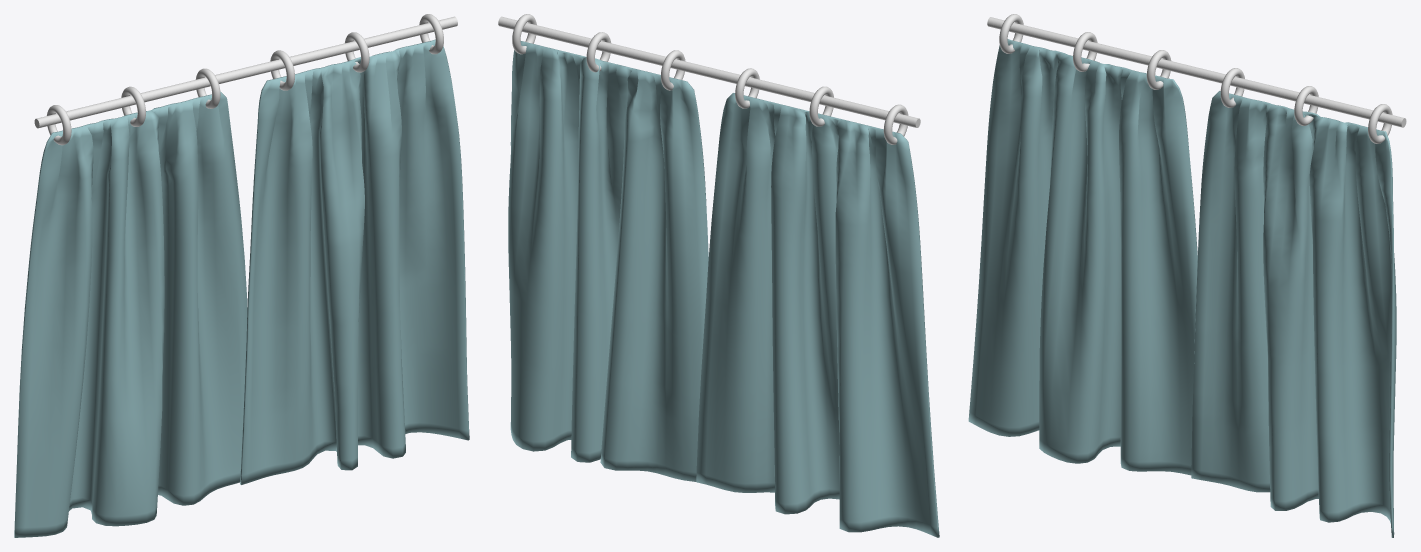
File: cortina enfermaria.fbx
3 renders of one model, left to right at view 1: azimuth 30°, elevation 25°; view 2: azimuth 150°, elevation 25°; view 3: azimuth 330°, elevation 25°, orthographic.
Parts seen in each view (by area): view 1: cortina enfermaria.LOD0; view 2: cortina enfermaria.LOD0; view 3: cortina enfermaria.LOD0.
Boxes of the visible parts, x1,y1,x2,y2 form: cortina enfermaria.LOD0: (14,14,469,537); cortina enfermaria.LOD0: (498,14,939,537); cortina enfermaria.LOD0: (968,14,1406,537).
Size of what is drawn, in the model's own units: 447 by 409 by 58.53.
